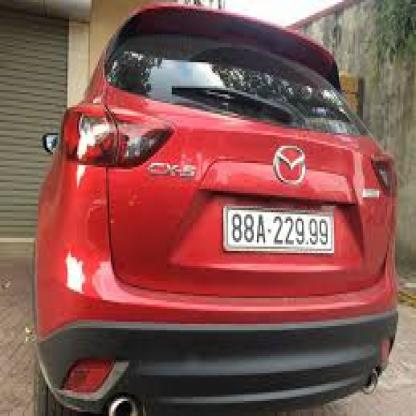biensoxe: (223, 208, 336, 259)
